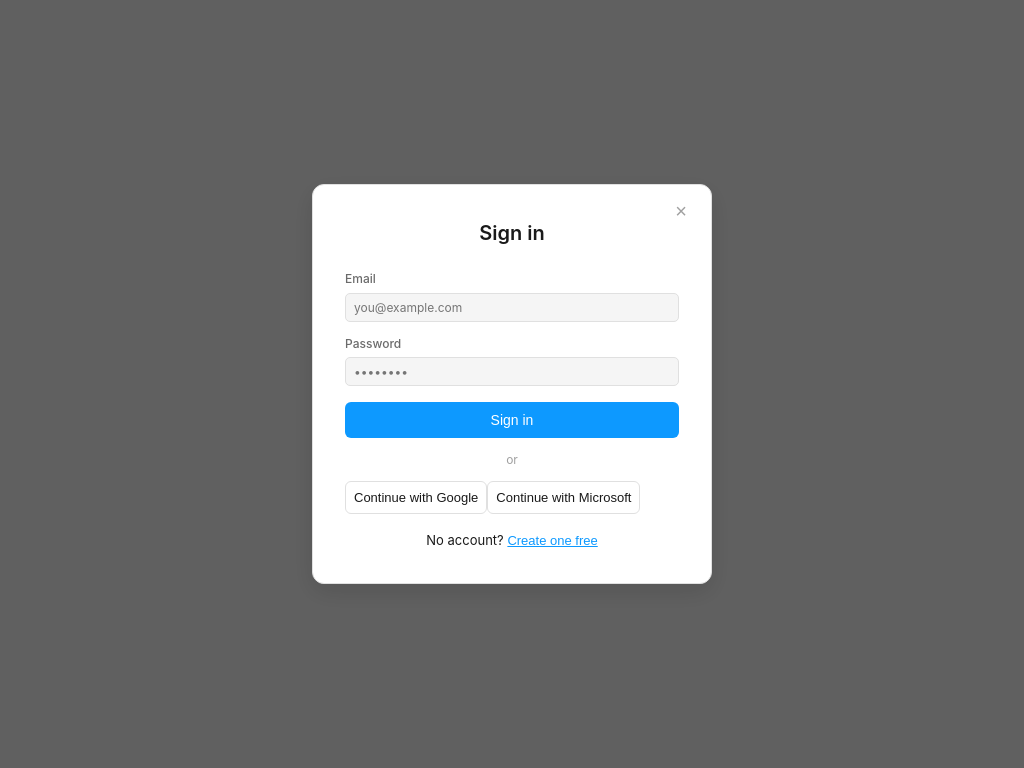
Test: T-AUTH-002: AuthModal › switches to register form
Click the button "Create one free": (553, 540) [507,533,598,548]
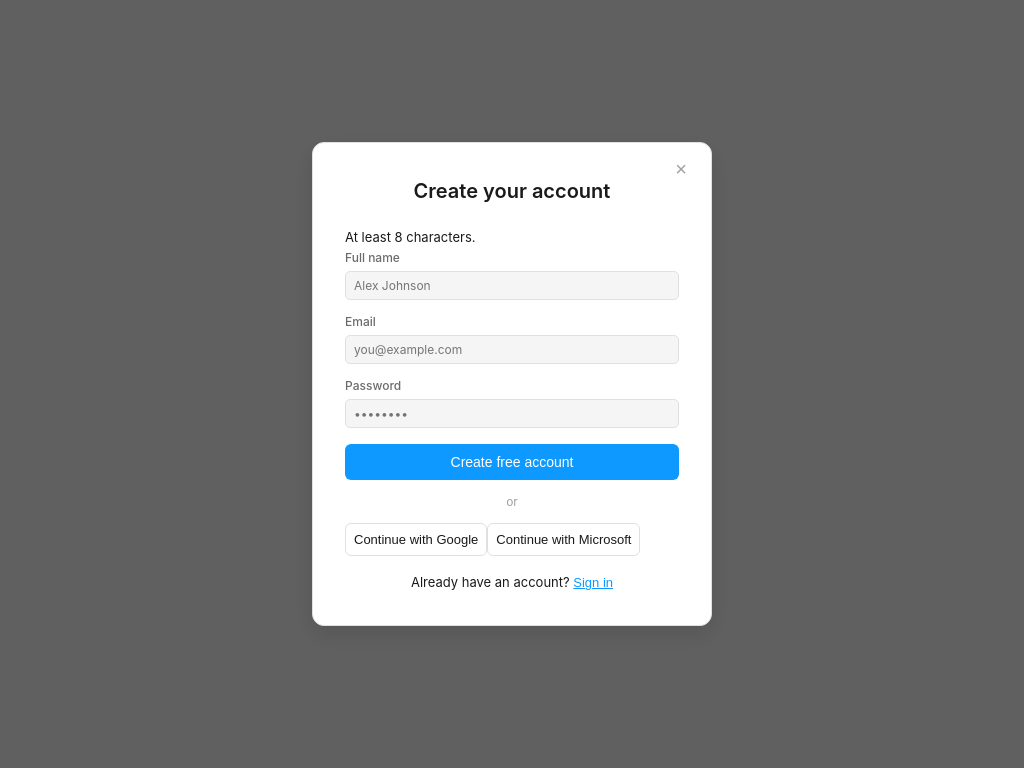
Check: the heading "Create your account" is shown, box [414,179,610,203]
